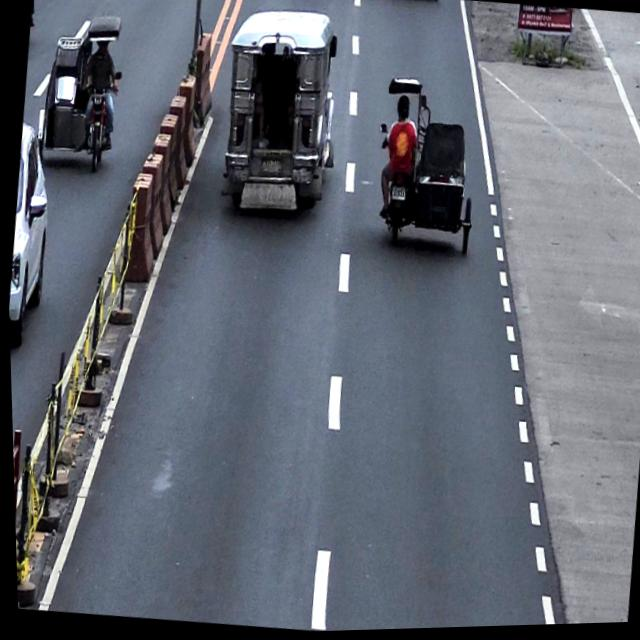Car: (3, 121, 62, 354)
Jeep: (212, 2, 350, 220)
License-Plate: (257, 158, 283, 179), (390, 189, 405, 203)
Tricycle: (365, 77, 486, 265), (29, 7, 131, 176)
